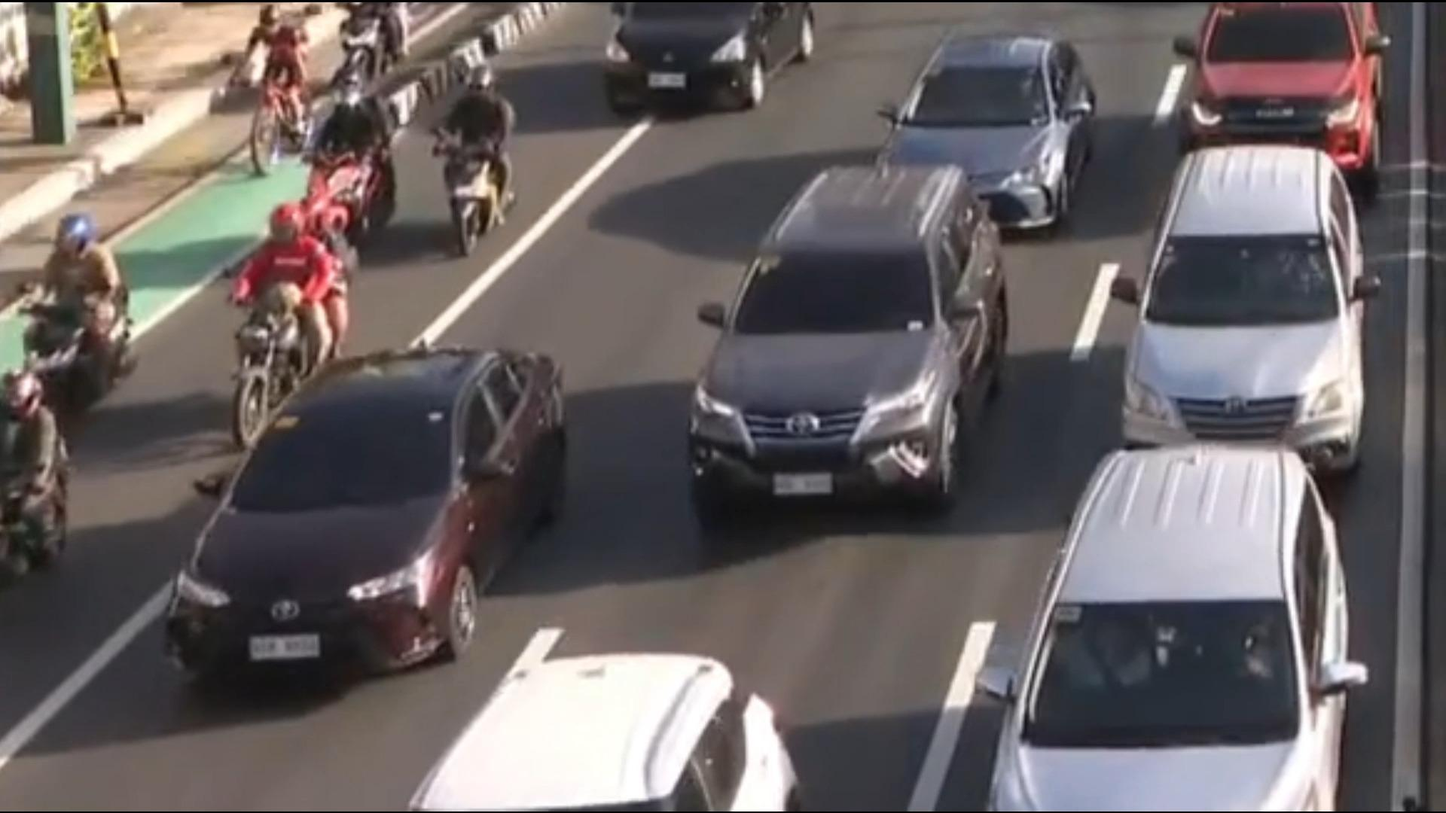Bicycle: (229, 5, 310, 180)
Motorcycle: (229, 197, 359, 462), (14, 209, 139, 420), (297, 71, 405, 245), (426, 64, 518, 251), (0, 367, 75, 576)
SUV: (975, 446, 1360, 813), (676, 163, 1005, 521), (1110, 147, 1380, 455), (1175, 0, 1385, 161)
Sedan: (155, 343, 581, 694), (871, 35, 1098, 239), (607, 2, 821, 118)
